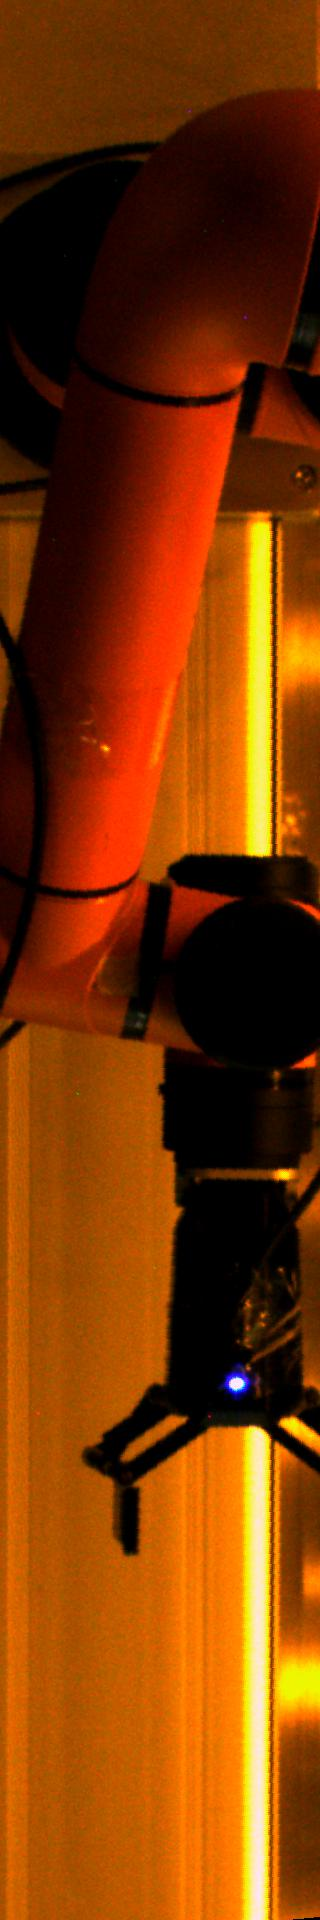keyPoint_1: (221, 1365, 251, 1395)
